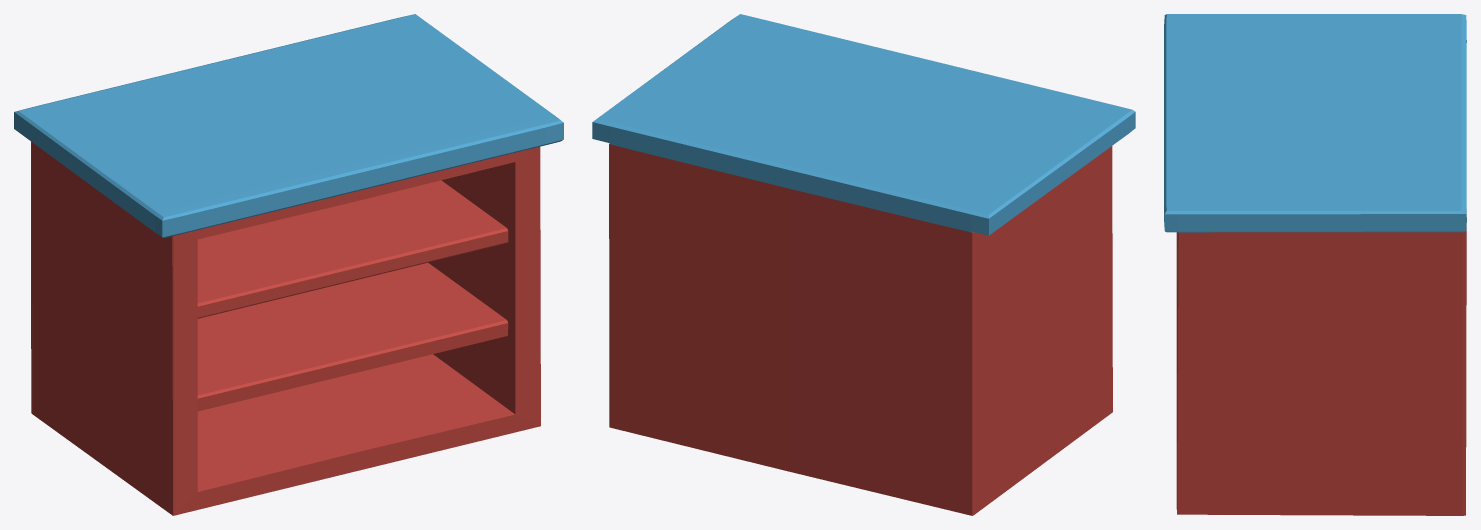
The model's file is LudumDareCabinetShelf 1.fbx.
The picture shows the model from 3 angles, left to right: view 1: azimuth 30°, elevation 25°; view 2: azimuth 150°, elevation 25°; view 3: azimuth 270°, elevation 25°; orthographic projection. The views are drawn at different scales.
Visible parts, largest first — view 1: Cabinet Shelf, Cabinet Shelf.001; view 2: Cabinet Shelf, Cabinet Shelf.001; view 3: Cabinet Shelf, Cabinet Shelf.001.
Part boxes in pixels (box(x1,y1,x2,y2)): Cabinet Shelf: box(31, 141, 540, 515); Cabinet Shelf.001: box(14, 14, 563, 238); Cabinet Shelf: box(609, 144, 1112, 515); Cabinet Shelf.001: box(592, 14, 1135, 235); Cabinet Shelf: box(1176, 228, 1466, 515); Cabinet Shelf.001: box(1164, 14, 1466, 232).
Bounding box in the file's own units: 116 × 84.68 × 74.23.
